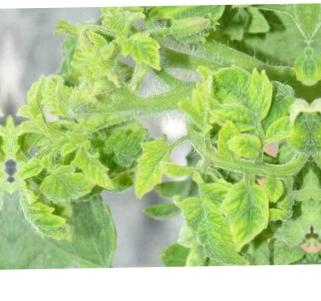Tomato leaf yellow virus: (199, 66, 278, 126), (218, 173, 276, 250), (19, 177, 73, 241), (131, 125, 174, 202), (72, 147, 118, 188), (119, 36, 170, 70)
